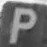Parking: (4, 1, 41, 42)
